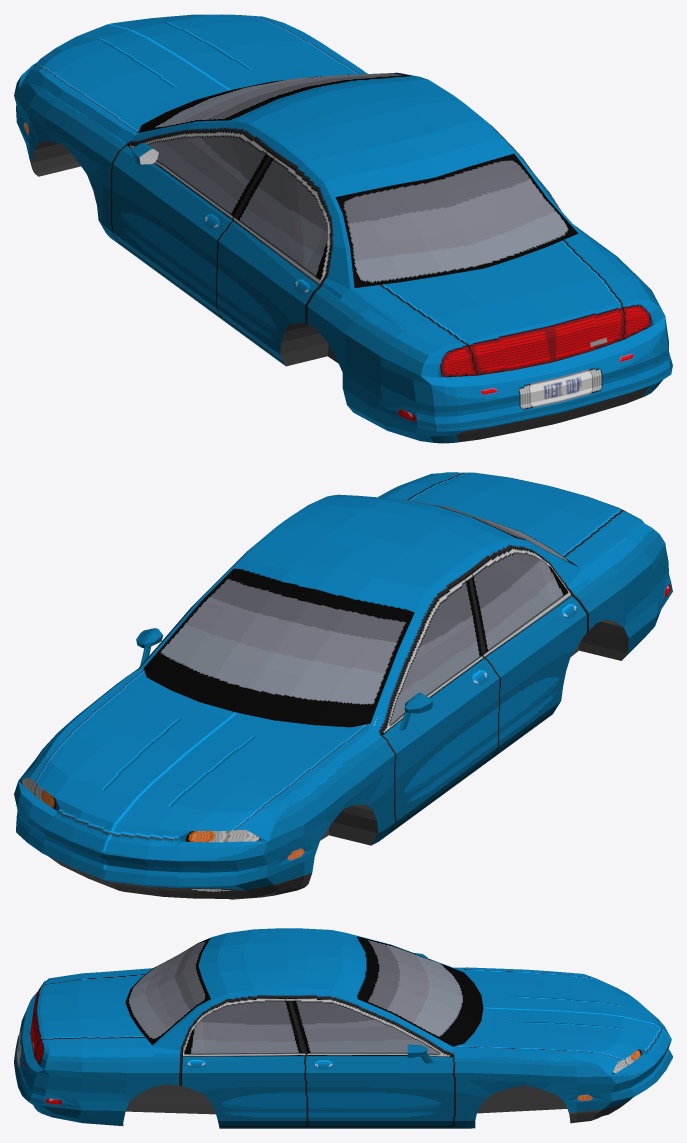
File: 93aurora.fbx
The picture shows the model from 3 angles, top to bottom: view 1: azimuth 30°, elevation 25°; view 2: azimuth 150°, elevation 25°; view 3: azimuth 270°, elevation 25°; orthographic projection. The views are drawn at different scales.
Parts seen in each view (by area): view 1: 93aurora; view 2: 93aurora; view 3: 93aurora.
Boxes of the visible parts, left/top/right/bottom form: 93aurora: left=14, top=14, right=672, bottom=443; 93aurora: left=14, top=472, right=672, bottom=899; 93aurora: left=14, top=928, right=672, bottom=1128.
Size of the model in its own units: 2 by 1.19 by 5.54.
